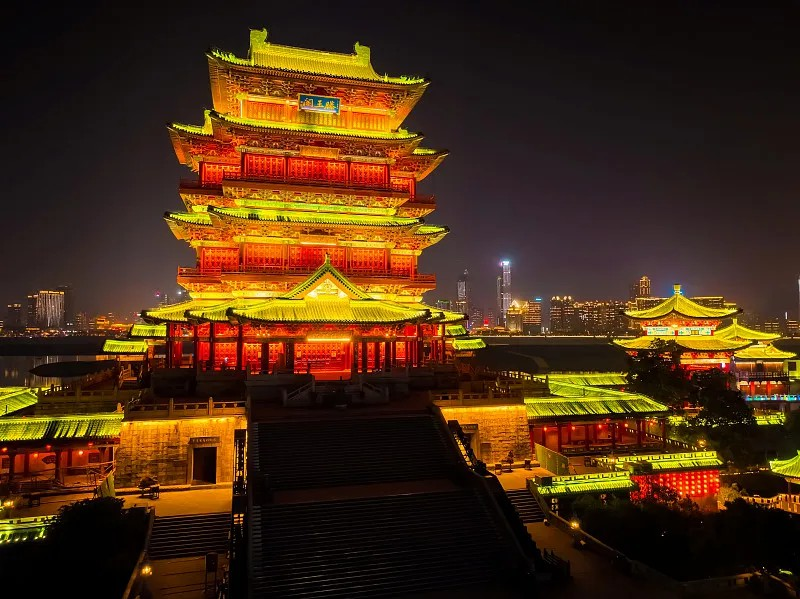Teng: (101, 27, 485, 390)
